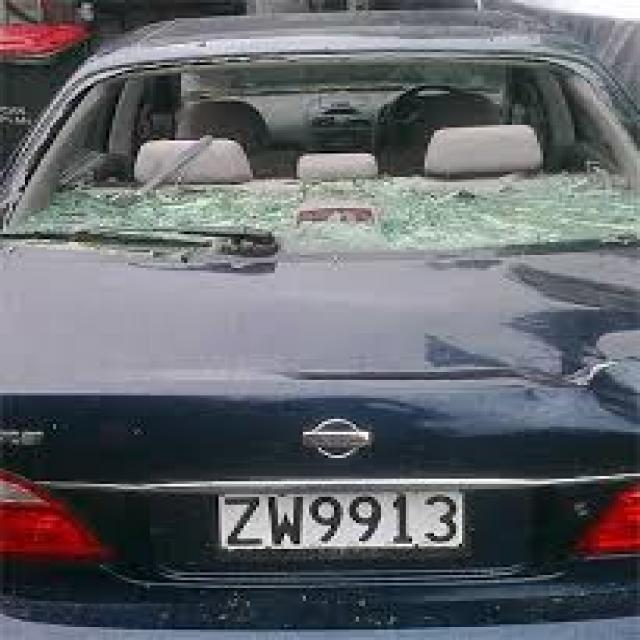minor: (28, 66, 640, 286)
